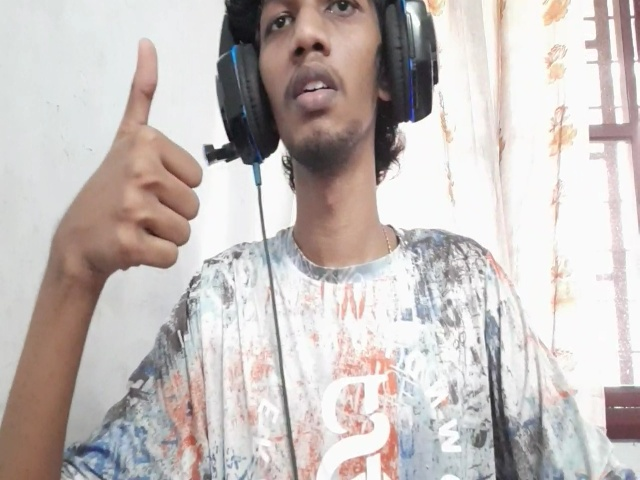ThumbsUp: (59, 37, 204, 280)
